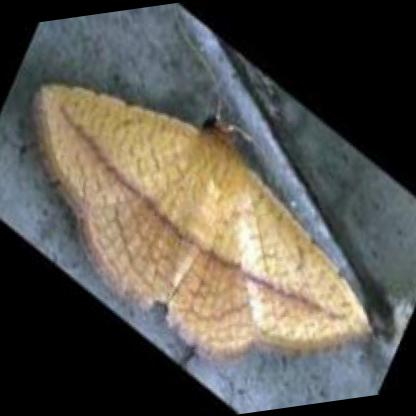Leaf Webber: (35, 81, 376, 364)
